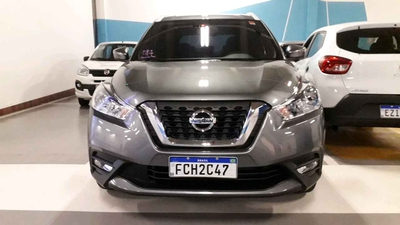Frontal Veiculo: (86, 13, 324, 202)
